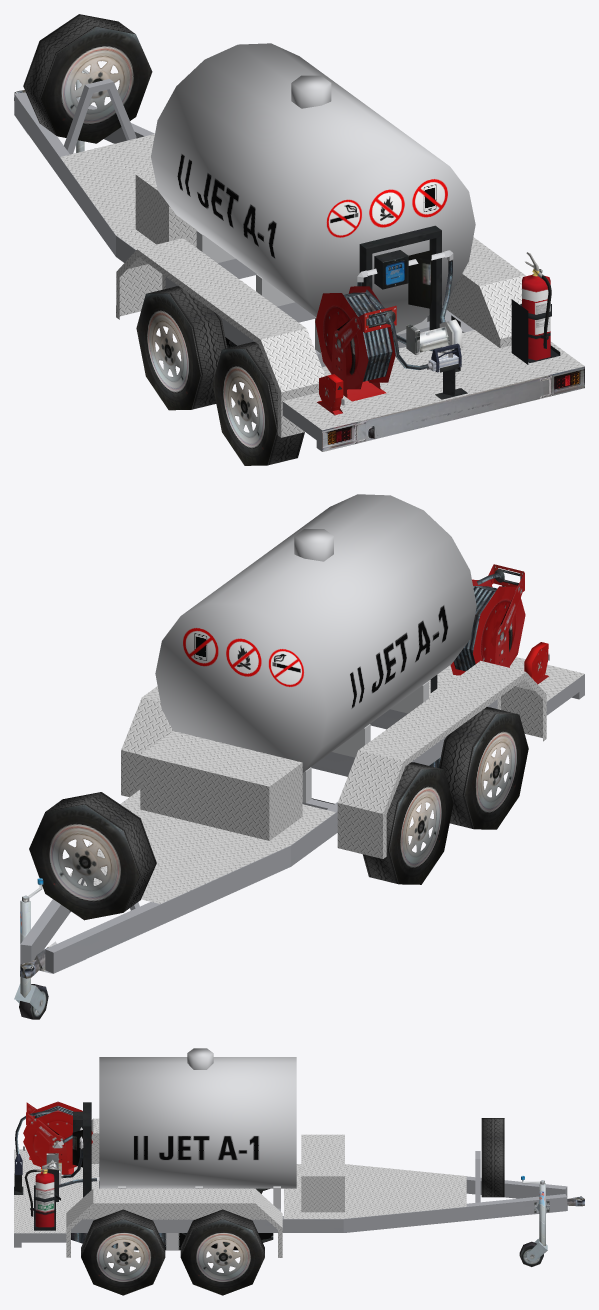
The model's file is fuel-trailer2-5m-cbj_LOD03.gltf.
3 views of the same model, one above another, from view 1: azimuth 30°, elevation 25°; view 2: azimuth 150°, elevation 25°; view 3: azimuth 270°, elevation 25° (orthographic). The views are drawn at different scales.
Parts seen in each view (by area): view 1: fuel-trailer2-3; view 2: fuel-trailer2-3; view 3: fuel-trailer2-3.
Part boxes in pixels (x1,y1,x2,y2): fuel-trailer2-3: (14,14,584,465); fuel-trailer2-3: (14,494,584,1019); fuel-trailer2-3: (14,1048,584,1295).
Size of the model in its own units: 1.83 by 2.04 by 5.21.
